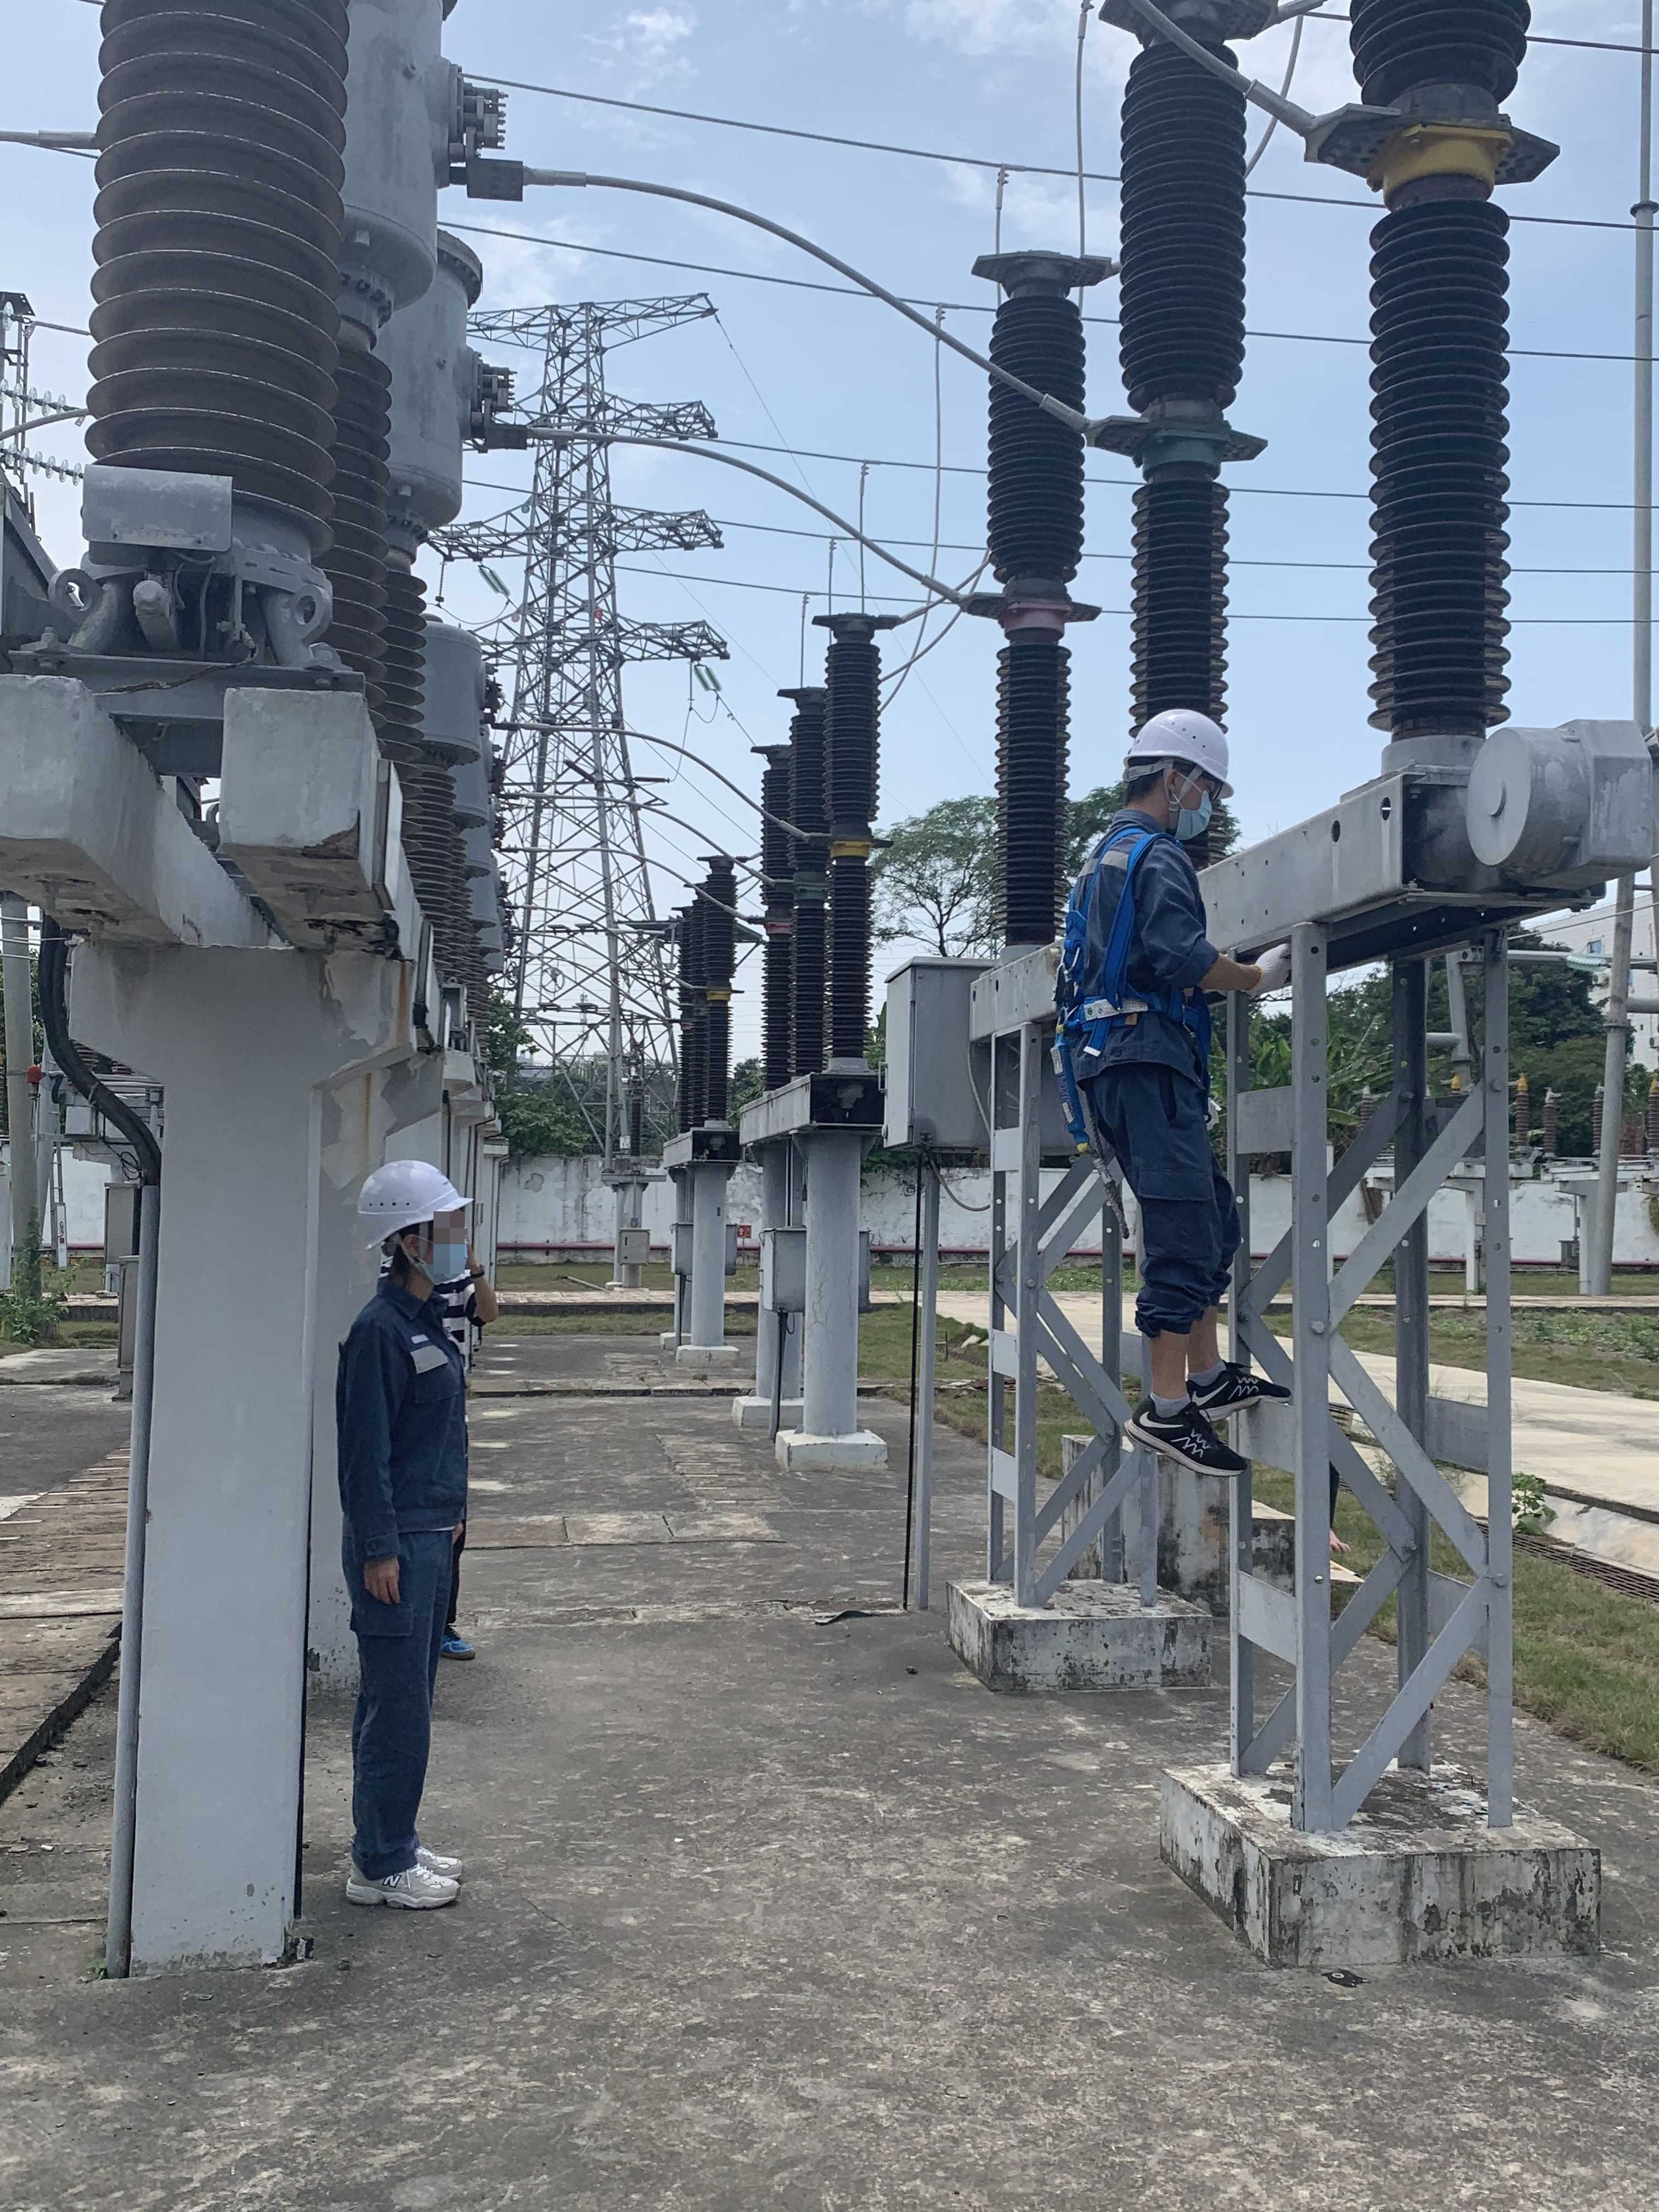downsuit: (1080, 1078, 1246, 1331), (347, 1557, 446, 1867)
upsuit: (335, 1285, 479, 1543), (1066, 829, 1222, 1049)
wrongbottom: (1133, 1287, 1230, 1414)
wrongtop: (1178, 934, 1291, 1010)
